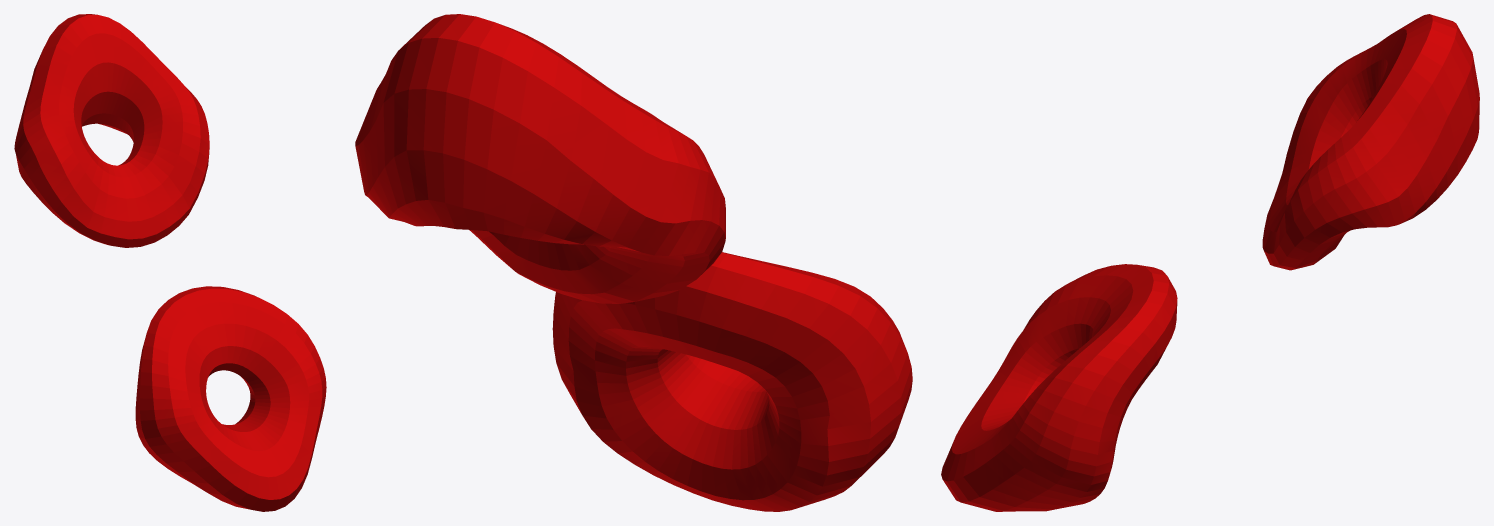
File: (2)sex(r).obj
The picture shows the model from 3 angles, left to right: view 1: azimuth 30°, elevation 25°; view 2: azimuth 150°, elevation 25°; view 3: azimuth 270°, elevation 25°; orthographic projection. The views are drawn at different scales.
Parts seen in each view (by area): view 1: red_Cylinder.001; view 2: red_Cylinder.001; view 3: red_Cylinder.001.
Boxes of the visible parts, left/top/right/bottom form: red_Cylinder.001: left=14, top=14, right=326, bottom=511; red_Cylinder.001: left=355, top=14, right=912, bottom=511; red_Cylinder.001: left=941, top=14, right=1479, bottom=511.
Bounding box in the file's own units: 0.4843 × 0.9097 × 0.9243.
